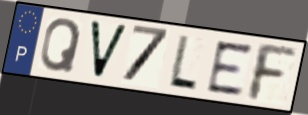7: (123, 23, 172, 88)
E: (205, 39, 255, 97)
F: (247, 40, 298, 104)
L: (166, 32, 200, 93)
Q: (38, 16, 84, 75)
V: (88, 18, 131, 82)
